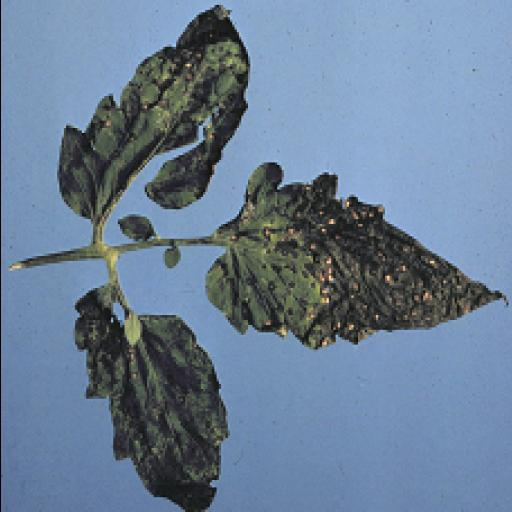Septoria: (209, 158, 512, 354), (52, 0, 252, 236), (67, 276, 230, 510)
